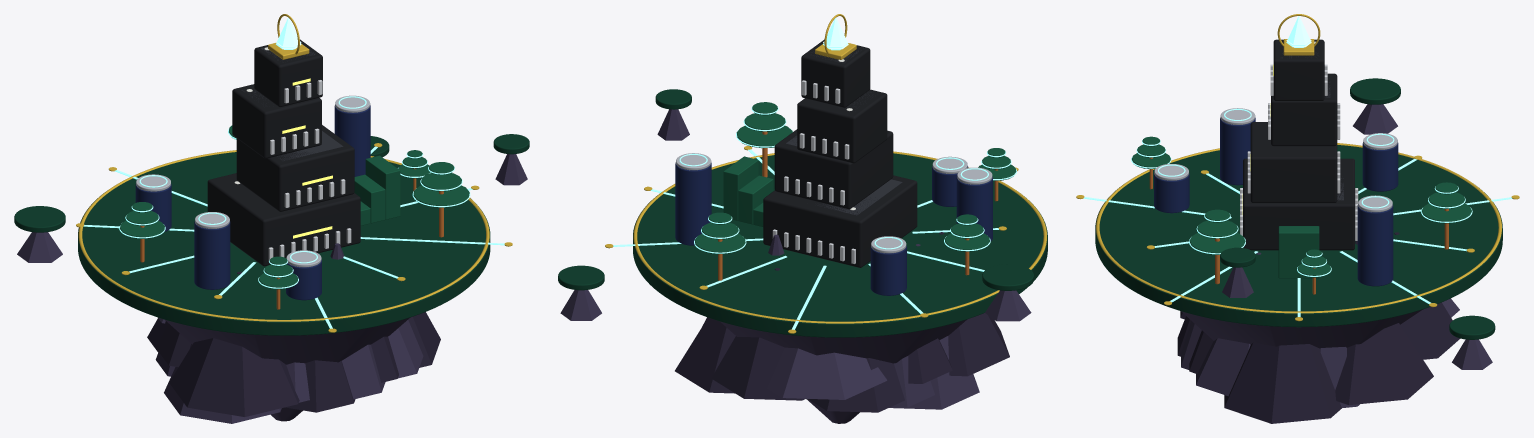
Rendered from title_diorama.glb.
The picture shows the model from 3 angles, left to right: view 1: azimuth 30°, elevation 25°; view 2: azimuth 150°, elevation 25°; view 3: azimuth 270°, elevation 25°; orthographic projection.
Parts seen in each view (by area): view 1: title_diorama; view 2: title_diorama; view 3: title_diorama.
Boxes of the visible parts, x1=… form: title_diorama: x1=14, y1=14, x2=529, y2=423; title_diorama: x1=558, y1=14, x2=1047, y2=423; title_diorama: x1=1076, y1=14, x2=1519, y2=423.
Bounding box in the file's own units: 9.85 × 8.57 × 8.7.
